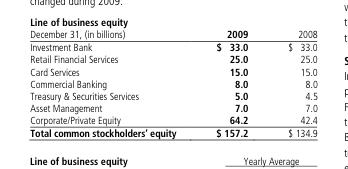table: (29, 29, 316, 138)
table column: (29, 29, 195, 138), (195, 29, 267, 138), (267, 29, 316, 138)
table column header: (29, 29, 316, 40)
table row: (29, 40, 316, 53), (29, 101, 316, 114), (29, 53, 316, 65), (29, 65, 316, 77), (29, 77, 316, 89), (29, 89, 316, 101), (29, 114, 316, 126), (29, 126, 316, 138), (29, 29, 316, 40)
